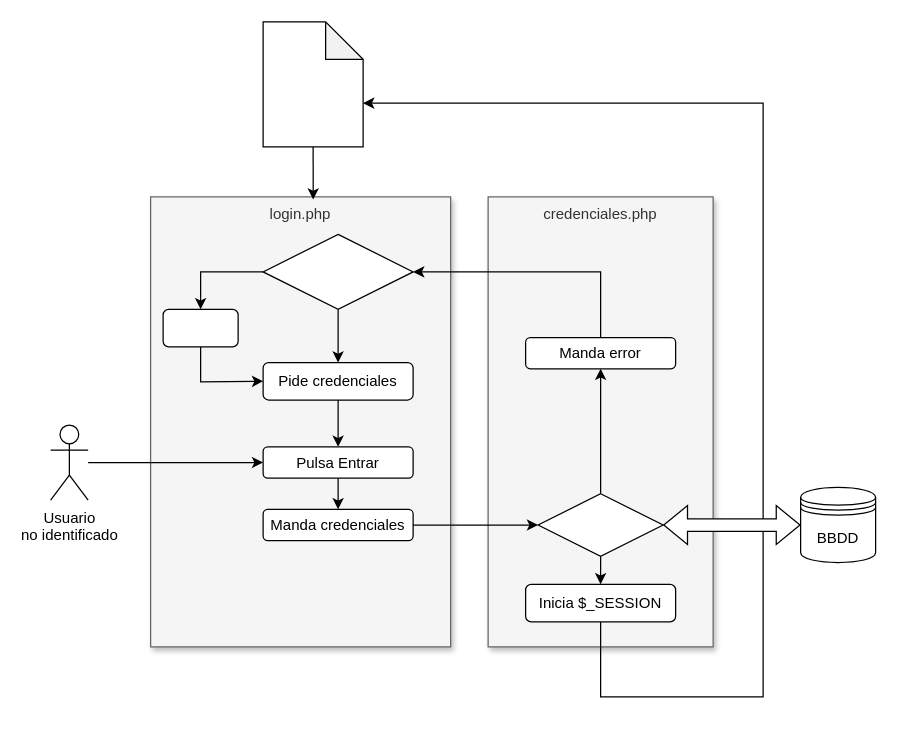
This 898x729 diagram has some shape labels left out. The centre of each missing label's shape, as x and y in pixels:
"Comprueba $POST e rror" belongs at point 337,271.
"comprueba BBDD" belongs at point 600,524.
"index.php" belongs at point 312,84.
"Muestra error" belongs at point 200,327.
